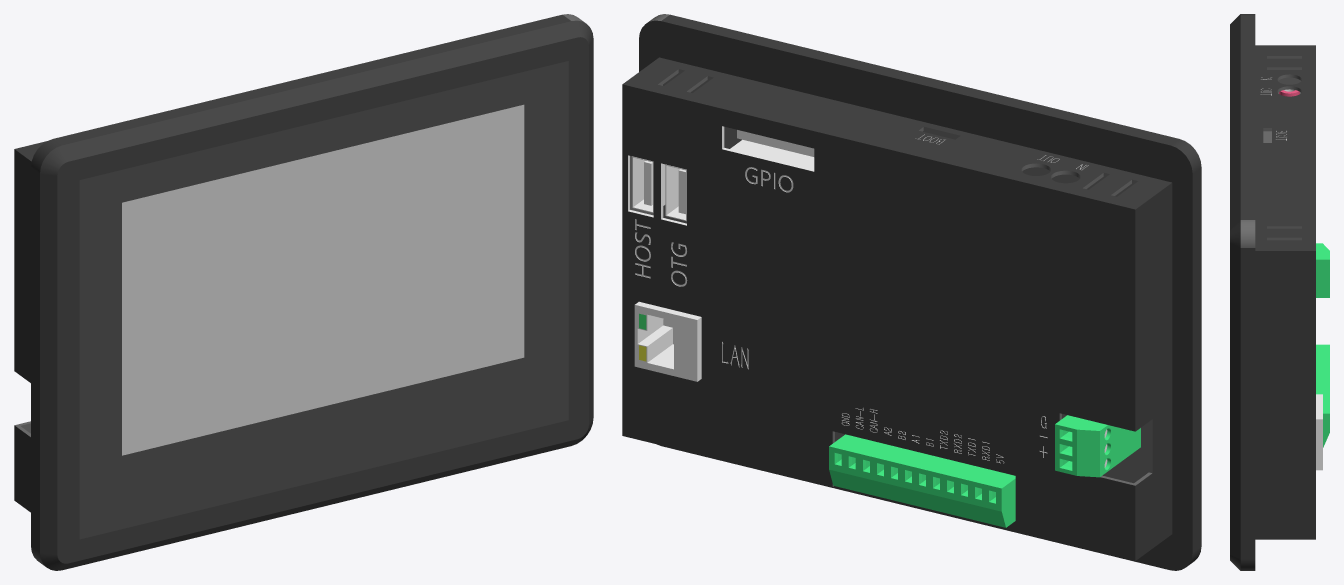
File: PPC-A8-050-C.fbx
3 views of the same model, side by side, from view 1: azimuth 30°, elevation 25°; view 2: azimuth 150°, elevation 25°; view 3: azimuth 270°, elevation 25° (orthographic). The views are drawn at different scales.
Parts seen in each view (by area): view 1: Part 90, Part 91, Part 92; view 2: Part 92, Part 96, Part 87, Part 93; view 3: Part 92, Part 96, Part 93, Part 87.
Boxes of the visible parts, x1=… form: Part 90: x1=122, y1=104, x2=524, y2=455; Part 91: x1=79, y1=61, x2=568, y2=539; Part 92: x1=14, y1=14, x2=593, y2=570; Part 92: x1=622, y1=14, x2=1201, y2=570; Part 96: x1=829, y1=415, x2=1140, y2=527; Part 87: x1=628, y1=126, x2=1107, y2=467; Part 93: x1=630, y1=14, x2=1152, y2=486; Part 92: x1=1230, y1=14, x2=1315, y2=570; Part 96: x1=1316, y1=243, x2=1329, y2=447; Part 93: x1=1240, y1=56, x2=1301, y2=247; Part 87: x1=1260, y1=77, x2=1322, y2=470.
Bounding box in the file's own units: 15 × 11 × 2.85.
